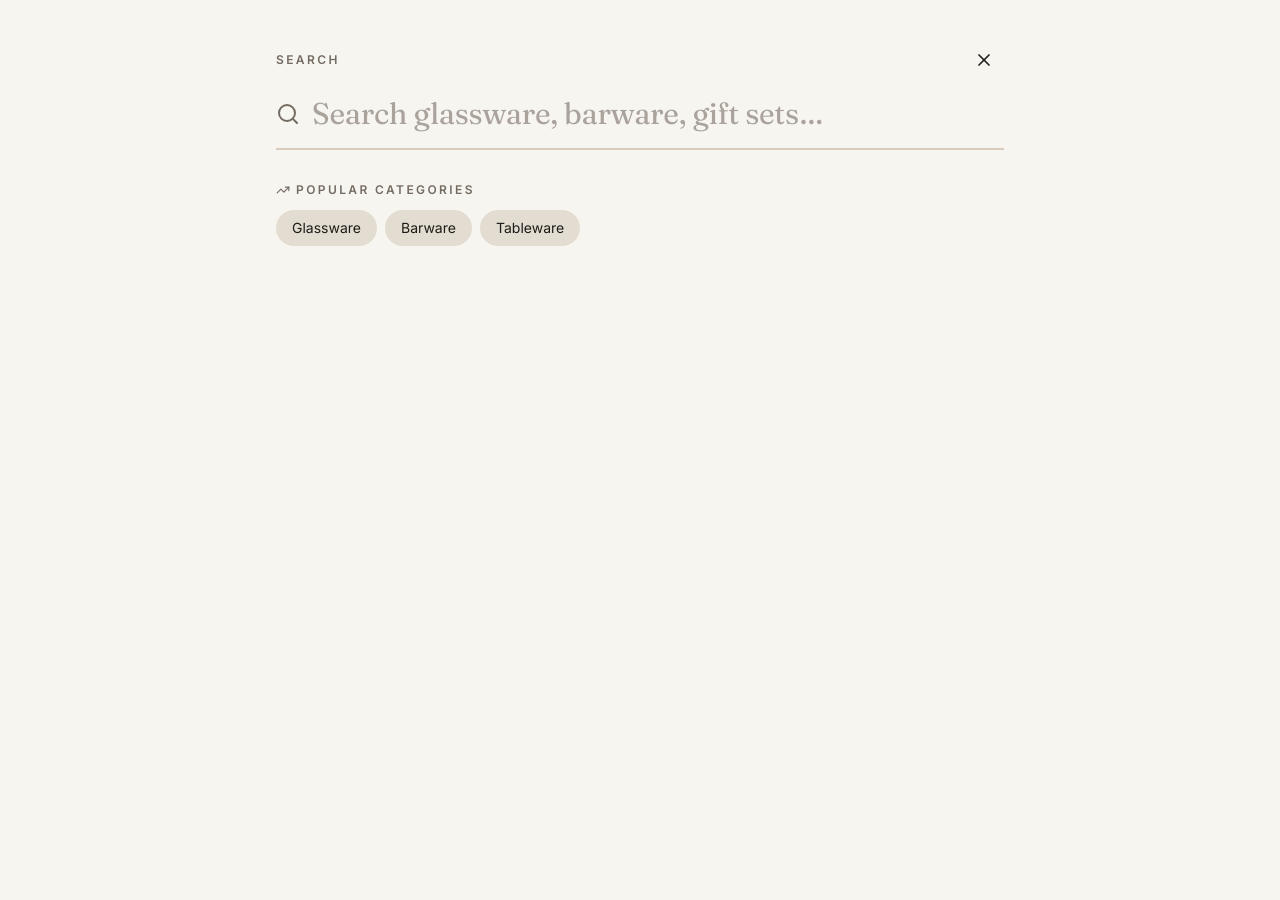
SearchModal (search component) › shows a no-results state for a nonsense query
In the dropdown: (658, 114) [312,96,1004,132], type "zzzznotarealproductzzzz"
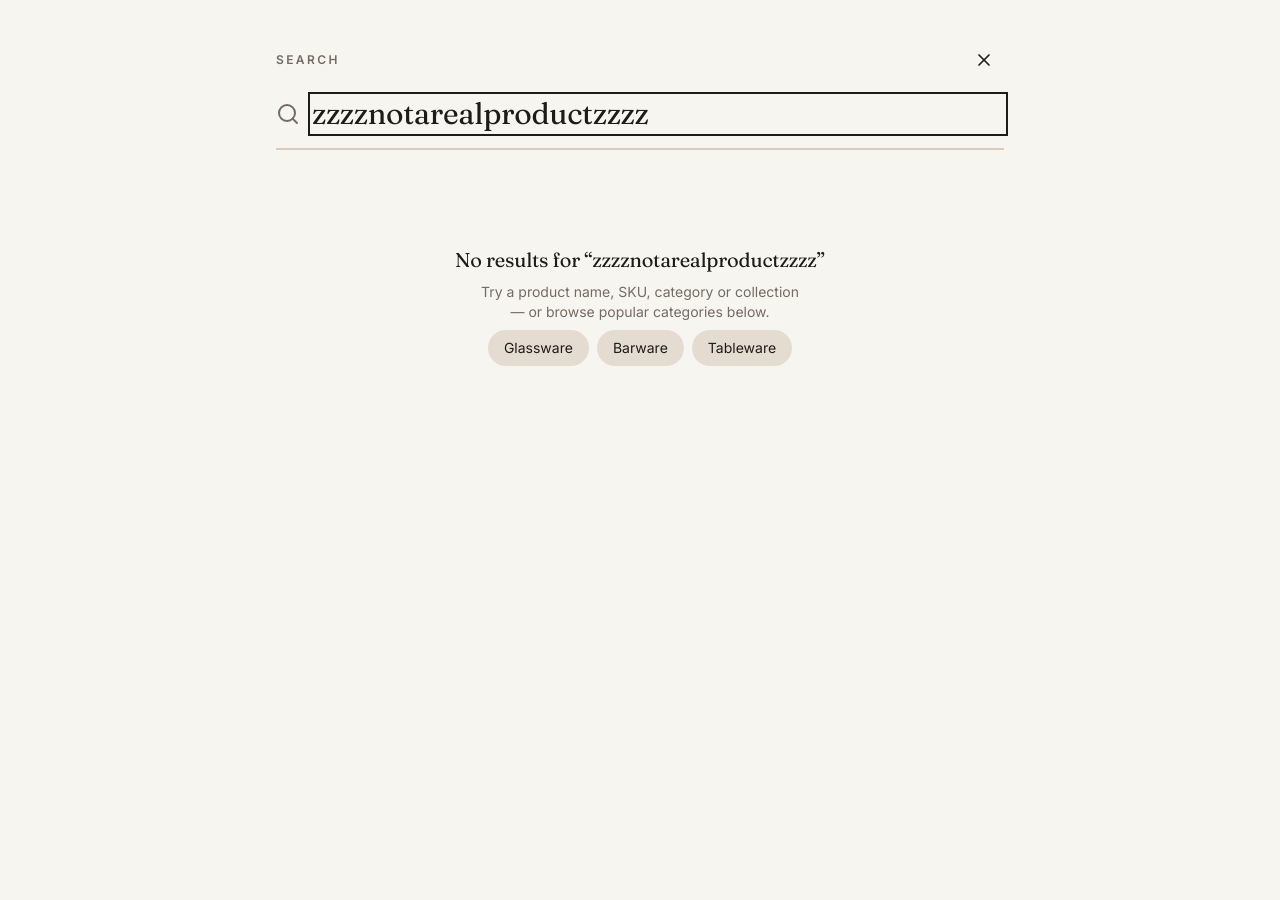
Now the text "No results for “zzzznotarealproductzzzz”" is shown, box [455,246,825,274]
